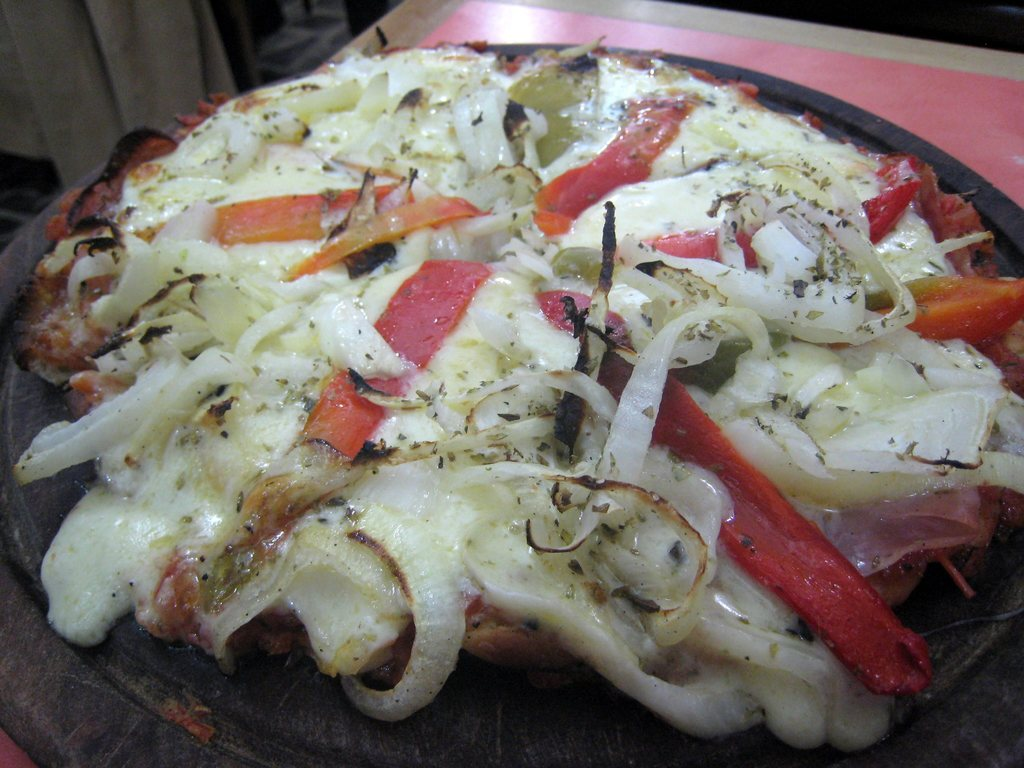Pizza: (0, 37, 1022, 748)
